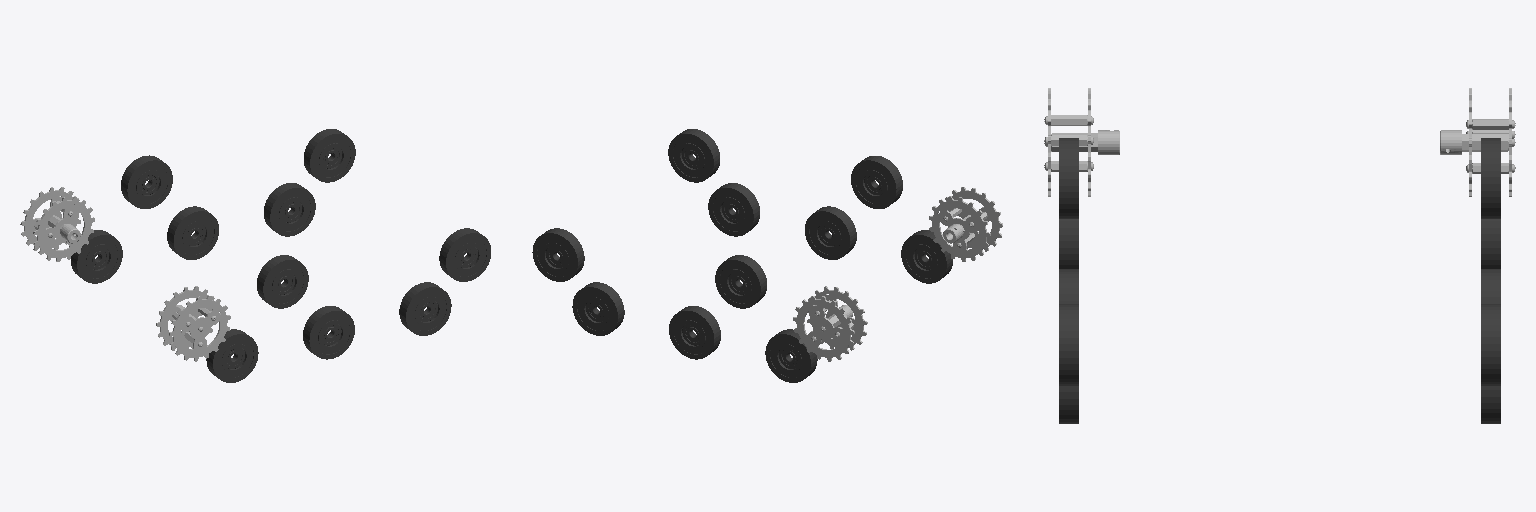
robot.urdf — model:
<?xml version="1.0" encoding="utf-8"?>
<!-- This URDF was automatically created by SolidWorks to URDF Exporter! Originally created by [author] ([email redacted]) 
     Commit Version: 1.5.1-0-g916b5db  Build Version: 1.5.7152.31018
     For more information, please see http://wiki.ros.org/sw_urdf_exporter -->
<robot
  name="model">
  <link
    name="chassis_link">
    <inertial>
      <origin
        xyz="-0.018795 2.4102E-05 0.072348"
        rpy="0 0 0" />
      <mass
        value="1.0402" />
      <inertia
        ixx="0.00083034"
        ixy="-1.5244E-08"
        ixz="8.1238E-06"
        iyy="0.002339"
        iyz="-1.2828E-09"
        izz="0.0029553" />
    </inertial>
    <visual>
      <origin
        xyz="0 0 0"
        rpy="0 0 0" />
      <geometry>
        <mesh
          filename="package://model/meshes/chassis_link.STL" />
      </geometry>
      <material
        name="">
        <color
          rgba="0.64706 0.61961 0.58824 1" />
      </material>
    </visual>
    <collision>
      <origin
        xyz="0 0 0"
        rpy="0 0 0" />
      <geometry>
        <mesh
          filename="package://model/meshes/chassis_link.STL" />
      </geometry>
    </collision>
  </link>
  <link
    name="R_BCD">
    <inertial>
      <origin
        xyz="-1.4807E-06 -3.1788E-05 -0.003944"
        rpy="0 0 0" />
      <mass
        value="0.036285" />
      <inertia
        ixx="3.9446E-06"
        ixy="-2.7291E-09"
        ixz="-5.1243E-09"
        iyy="3.9498E-06"
        iyz="-1.6836E-09"
        izz="4.4119E-06" />
    </inertial>
    <visual>
      <origin
        xyz="0 0 0"
        rpy="0 0 0" />
      <geometry>
        <mesh
          filename="package://model/meshes/R_BCD.STL" />
      </geometry>
      <material
        name="">
        <color
          rgba="0.75294 0.75294 0.75294 1" />
      </material>
    </visual>
    <collision>
      <origin
        xyz="0 0 0"
        rpy="0 0 0" />
      <geometry>
        <mesh
          filename="package://model/meshes/R_BCD.STL" />
      </geometry>
    </collision>
  </link>
  <joint
    name="R_BCD_joint"
    type="continuous">
    <origin
      xyz="-0.10835 0.103 0.05996"
      rpy="-1.5708 0 0" />
    <parent
      link="chassis_link" />
    <child
      link="R_BCD" />
    <axis
      xyz="0 0 1" />
    <limit
      effort="0"
      velocity="10" />
  </joint>
  <link
    name="L_BCD">
    <inertial>
      <origin
        xyz="2.54236738991415E-05 1.14950922851589E-06 0.00394401127068325"
        rpy="0 0 0" />
      <mass
        value="0.0362846245528496" />
      <inertia
        ixx="3.9490938448633E-06"
        ixy="-3.27065914702875E-09"
        ixz="-2.28527803096932E-09"
        iyy="3.94532902854185E-06"
        iyz="-4.88578587042565E-09"
        izz="4.41185875569394E-06" />
    </inertial>
    <visual>
      <origin
        xyz="0 0 0"
        rpy="0 0 0" />
      <geometry>
        <mesh
          filename="package://model/meshes/L_BCD.STL" />
      </geometry>
      <material
        name="">
        <color
          rgba="0.752941176470588 0.752941176470588 0.752941176470588 1" />
      </material>
    </visual>
    <collision>
      <origin
        xyz="0 0 0"
        rpy="0 0 0" />
      <geometry>
        <mesh
          filename="package://model/meshes/L_BCD.STL" />
      </geometry>
    </collision>
  </link>
  <joint
    name="L_BCD_joint"
    type="continuous">
    <origin
      xyz="-0.108362582516028 -0.102999999999996 0.0599822962593122"
      rpy="-1.57079632679489 0 0" />
    <parent
      link="chassis_link" />
    <child
      link="L_BCD" />
    <axis
      xyz="0 0 1" />
    <limit
      effort="0"
      velocity="10" />
  </joint>
  <link
    name="R_BBD1">
    <inertial>
      <origin
        xyz="7.28277847777958E-07 2.32009663224397E-07 3.51072001136821E-07"
        rpy="0 0 0" />
      <mass
        value="0.0181510227398189" />
      <inertia
        ixx="1.46983823144334E-06"
        ixy="-2.33658940819177E-11"
        ixz="-3.69944187591677E-11"
        iyy="1.4699043173567E-06"
        iyz="-1.1775439002061E-11"
        izz="2.73993560788191E-06" />
    </inertial>
    <visual>
      <origin
        xyz="0 0 0"
        rpy="0 0 0" />
      <geometry>
        <mesh
          filename="package://model/meshes/R_BBD1.STL" />
      </geometry>
      <material
        name="">
        <color
          rgba="0.298039215686275 0.298039215686275 0.298039215686275 1" />
      </material>
    </visual>
    <collision>
      <origin
        xyz="0 0 0"
        rpy="0 0 0" />
      <geometry>
        <mesh
          filename="package://model/meshes/R_BBD1.STL" />
      </geometry>
    </collision>
  </link>
  <joint
    name="R_BBD1_joint"
    type="continuous">
    <origin
      xyz="-0.0743310822413043 0.103000000000001 0.0249996971806272"
      rpy="-1.57079632679491 0 0" />
    <parent
      link="chassis_link" />
    <child
      link="R_BBD1" />
    <axis
      xyz="0 0 1" />
    <limit
      effort="0"
      velocity="10" />
  </joint>
  <link
    name="R_BBD2">
    <inertial>
      <origin
        xyz="-7.54832669185718E-07 1.20186309407293E-07 3.51072001122943E-07"
        rpy="0 0 0" />
      <mass
        value="0.0181510227398189" />
      <inertia
        ixx="1.4698328224365E-06"
        ixy="1.26193698012093E-11"
        ixz="3.8338838415935E-11"
        iyy="1.46990972636354E-06"
        iyz="-6.11403689223335E-12"
        izz="2.73993560788191E-06" />
    </inertial>
    <visual>
      <origin
        xyz="0 0 0"
        rpy="0 0 0" />
      <geometry>
        <mesh
          filename="package://model/meshes/R_BBD2.STL" />
      </geometry>
      <material
        name="">
        <color
          rgba="0.298039215686275 0.298039215686275 0.298039215686275 1" />
      </material>
    </visual>
    <collision>
      <origin
        xyz="0 0 0"
        rpy="0 0 0" />
      <geometry>
        <mesh
          filename="package://model/meshes/R_BBD2.STL" />
      </geometry>
    </collision>
  </link>
  <joint
    name="R_BBD2_joint"
    type="continuous">
    <origin
      xyz="-0.0303310822413043 0.103000000000001 0.0769996971806272"
      rpy="-1.57079632679491 0 0" />
    <parent
      link="chassis_link" />
    <child
      link="R_BBD2" />
    <axis
      xyz="0 0 1" />
    <limit
      effort="0"
      velocity="10" />
  </joint>
  <link
    name="R_BBD3">
    <inertial>
      <origin
        xyz="7.46785111856857E-07 1.62877574087783E-07 3.51072001178454E-07"
        rpy="0 0 0" />
      <mass
        value="0.0181510227398189" />
      <inertia
        ixx="1.4698344579235E-06"
        ixy="-1.68032451889584E-11"
        ixz="-3.79336006985298E-11"
        iyy="1.46990809087654E-06"
        iyz="-8.26377159529316E-12"
        izz="2.73993560788191E-06" />
    </inertial>
    <visual>
      <origin
        xyz="0 0 0"
        rpy="0 0 0" />
      <geometry>
        <mesh
          filename="package://model/meshes/R_BBD3.STL" />
      </geometry>
      <material
        name="">
        <color
          rgba="0.298039215686275 0.298039215686275 0.298039215686275 1" />
      </material>
    </visual>
    <collision>
      <origin
        xyz="0 0 0"
        rpy="0 0 0" />
      <geometry>
        <mesh
          filename="package://model/meshes/R_BBD3.STL" />
      </geometry>
    </collision>
  </link>
  <joint
    name="R_BBD3_joint"
    type="continuous">
    <origin
      xyz="0.010169 0.103 0.025"
      rpy="-1.5708 0 0" />
    <parent
      link="chassis_link" />
    <child
      link="R_BBD3" />
    <axis
      xyz="0 0 1" />
    <limit
      effort="0"
      velocity="10" />
  </joint>
  <link
    name="R_BBD4">
    <inertial>
      <origin
        xyz="6.54810600880795E-07 3.94259032136801E-07 3.51072001178454E-07"
        rpy="0 0 0" />
      <mass
        value="0.0181510227398189" />
      <inertia
        ixx="1.46985229281595E-06"
        ixy="-3.57421524048419E-11"
        ixz="-3.32648047027426E-11"
        iyy="1.46989025598409E-06"
        iyz="-2.00175110531134E-11"
        izz="2.73993560788191E-06" />
    </inertial>
    <visual>
      <origin
        xyz="0 0 0"
        rpy="0 0 0" />
      <geometry>
        <mesh
          filename="package://model/meshes/R_BBD4.STL" />
      </geometry>
      <material
        name="">
        <color
          rgba="0.298039215686275 0.298039215686275 0.298039215686275 1" />
      </material>
    </visual>
    <collision>
      <origin
        xyz="0 0 0"
        rpy="0 0 0" />
      <geometry>
        <mesh
          filename="package://model/meshes/R_BBD4.STL" />
      </geometry>
    </collision>
  </link>
  <joint
    name="R_BBD4_joint"
    type="continuous">
    <origin
      xyz="0.0946689177586958 0.103000000000001 0.0249996971806272"
      rpy="-1.5707963267949 0 0" />
    <parent
      link="chassis_link" />
    <child
      link="R_BBD4" />
    <axis
      xyz="0 0 1" />
    <limit
      effort="0"
      velocity="10" />
  </joint>
  <link
    name="R_BBD5">
    <inertial>
      <origin
        xyz="7.51477552213276E-07 1.39637373060275E-07 3.51072001136821E-07"
        rpy="0 0 0" />
      <mass
        value="0.0181510227398189" />
      <inertia
        ixx="1.46983348693769E-06"
        ixy="-1.44882601873531E-11"
        ixz="-3.81716552756468E-11"
        iyy="1.46990906186235E-06"
        iyz="-7.08327000155154E-12"
        izz="2.73993560788191E-06" />
    </inertial>
    <visual>
      <origin
        xyz="0 0 0"
        rpy="0 0 0" />
      <geometry>
        <mesh
          filename="package://model/meshes/R_BBD5.STL" />
      </geometry>
      <material
        name="">
        <color
          rgba="0.298039215686275 0.298039215686275 0.298039215686275 1" />
      </material>
    </visual>
    <collision>
      <origin
        xyz="0 0 0"
        rpy="0 0 0" />
      <geometry>
        <mesh
          filename="package://model/meshes/R_BBD5.STL" />
      </geometry>
    </collision>
  </link>
  <joint
    name="R_BBD5_joint"
    type="continuous">
    <origin
      xyz="0.12967 0.103 0.062"
      rpy="-1.5708 0 0" />
    <parent
      link="chassis_link" />
    <child
      link="R_BBD5" />
    <axis
      xyz="0 0 1" />
    <limit
      effort="0"
      velocity="10" />
  </joint>
  <link
    name="L_BBD1">
    <inertial>
      <origin
        xyz="-1.71752597255548E-07 -7.447940337732E-07 -3.51072001164576E-07"
        rpy="0 0 0" />
      <mass
        value="0.0181510227398189" />
      <inertia
        ixx="1.46990768056932E-06"
        ixy="-1.76746380202336E-11"
        ixz="-8.7145868030865E-12"
        iyy="1.46983486823072E-06"
        iyz="-3.78325779782942E-11"
        izz="2.73993560788191E-06" />
    </inertial>
    <visual>
      <origin
        xyz="0 0 0"
        rpy="0 0 0" />
      <geometry>
        <mesh
          filename="package://model/meshes/L_BBD1.STL" />
      </geometry>
      <material
        name="">
        <color
          rgba="0.298039215686275 0.298039215686275 0.298039215686275 1" />
      </material>
    </visual>
    <collision>
      <origin
        xyz="0 0 0"
        rpy="0 0 0" />
      <geometry>
        <mesh
          filename="package://model/meshes/L_BBD1.STL" />
      </geometry>
    </collision>
  </link>
  <joint
    name="L_BBD1_joint"
    type="continuous">
    <origin
      xyz="-0.074331 -0.103 0.025"
      rpy="-1.5708 0 0" />
    <parent
      link="chassis_link" />
    <child
      link="L_BBD1" />
    <axis
      xyz="0 0 1" />
    <limit
      effort="0"
      velocity="10" />
  </joint>
  <link
    name="L_BBD2">
    <inertial>
      <origin
        xyz="-7.62091937389631E-07 5.85916922132834E-08 -3.51072001150698E-07"
        rpy="0 0 0" />
      <mass
        value="0.0181510227398189" />
      <inertia
        ixx="1.46983127214448E-06"
        ixy="6.13364037635629E-12"
        ixz="-3.87097846999645E-11"
        iyy="1.46991127665556E-06"
        iyz="2.96657189858838E-12"
        izz="2.73993560788191E-06" />
    </inertial>
    <visual>
      <origin
        xyz="0 0 0"
        rpy="0 0 0" />
      <geometry>
        <mesh
          filename="package://model/meshes/L_BBD2.STL" />
      </geometry>
      <material
        name="">
        <color
          rgba="0.298039215686275 0.298039215686275 0.298039215686275 1" />
      </material>
    </visual>
    <collision>
      <origin
        xyz="0 0 0"
        rpy="0 0 0" />
      <geometry>
        <mesh
          filename="package://model/meshes/L_BBD2.STL" />
      </geometry>
    </collision>
  </link>
  <joint
    name="L_BBD2_joint"
    type="continuous">
    <origin
      xyz="-0.030331 -0.103 0.077"
      rpy="-1.5708 0 0" />
    <parent
      link="chassis_link" />
    <child
      link="L_BBD2" />
    <axis
      xyz="0 0 1" />
    <limit
      effort="0"
      velocity="10" />
  </joint>
  <link
    name="L_BBD3">
    <inertial>
      <origin
        xyz="-5.14908693495519E-08 -7.62604614304441E-07 -3.51072001247843E-07"
        rpy="0 0 0" />
      <mass
        value="0.0181510227398189" />
      <inertia
        ixx="1.46991138396984E-06"
        ixy="-5.38742996710733E-12"
        ixz="-2.60589229846249E-12"
        iyy="1.4698311648302E-06"
        iyz="-3.87357367934029E-11"
        izz="2.73993560788191E-06" />
    </inertial>
    <visual>
      <origin
        xyz="0 0 0"
        rpy="0 0 0" />
      <geometry>
        <mesh
          filename="package://model/meshes/L_BBD3.STL" />
      </geometry>
      <material
        name="">
        <color
          rgba="0.298039215686275 0.298039215686275 0.298039215686275 1" />
      </material>
    </visual>
    <collision>
      <origin
        xyz="0 0 0"
        rpy="0 0 0" />
      <geometry>
        <mesh
          filename="package://model/meshes/L_BBD3.STL" />
      </geometry>
    </collision>
  </link>
  <joint
    name="L_BBD3_joint"
    type="continuous">
    <origin
      xyz="0.010169 -0.103 0.025"
      rpy="-1.5708 0 0" />
    <parent
      link="chassis_link" />
    <child
      link="L_BBD3" />
    <axis
      xyz="0 0 1" />
    <limit
      effort="0"
      velocity="10" />
  </joint>
  <link
    name="L_BBD4">
    <inertial>
      <origin
        xyz="4.60323504314353E-08 -7.62953556970869E-07 -3.51072001136821E-07"
        rpy="0 0 0" />
      <mass
        value="0.0181510227398189" />
      <inertia
        ixx="1.46991144415693E-06"
        ixy="4.91859962973128E-12"
        ixz="2.34762426130386E-12"
        iyy="1.46983110464311E-06"
        iyz="-3.87522469017893E-11"
        izz="2.73993560788191E-06" />
    </inertial>
    <visual>
      <origin
        xyz="0 0 0"
        rpy="0 0 0" />
      <geometry>
        <mesh
          filename="package://model/meshes/L_BBD4.STL" />
      </geometry>
      <material
        name="">
        <color
          rgba="0.298039215686275 0.298039215686275 0.298039215686275 1" />
      </material>
    </visual>
    <collision>
      <origin
        xyz="0 0 0"
        rpy="0 0 0" />
      <geometry>
        <mesh
          filename="package://model/meshes/L_BBD4.STL" />
      </geometry>
    </collision>
  </link>
  <joint
    name="L_BBD4_joint"
    type="continuous">
    <origin
      xyz="0.094669 -0.103 0.025"
      rpy="-1.5708 0 0" />
    <parent
      link="chassis_link" />
    <child
      link="L_BBD4" />
    <axis
      xyz="0 0 1" />
    <limit
      effort="0"
      velocity="10" />
  </joint>
  <link
    name="L_BBD5">
    <inertial>
      <origin
        xyz="1.1695E-07 -7.5534E-07 -3.5107E-07"
        rpy="0 0 0" />
      <mass
        value="0.018151" />
      <inertia
        ixx="1.4699E-06"
        ixy="1.2289E-11"
        ixz="5.9496E-12"
        iyy="1.4698E-06"
        iyz="-3.8365E-11"
        izz="2.7399E-06" />
    </inertial>
    <visual>
      <origin
        xyz="0 0 0"
        rpy="0 0 0" />
      <geometry>
        <mesh
          filename="package://model/meshes/L_BBD5.STL" />
      </geometry>
      <material
        name="">
        <color
          rgba="0.29804 0.29804 0.29804 1" />
      </material>
    </visual>
    <collision>
      <origin
        xyz="0 0 0"
        rpy="0 0 0" />
      <geometry>
        <mesh
          filename="package://model/meshes/L_BBD5.STL" />
      </geometry>
    </collision>
  </link>
  <joint
    name="L_BBD5_joint"
    type="continuous">
    <origin
      xyz="0.12967 -0.103 0.062"
      rpy="-1.5708 0 0" />
    <parent
      link="chassis_link" />
    <child
      link="L_BBD5" />
    <axis
      xyz="0 0 1" />
    <limit
      effort="0"
      velocity="10" />
  </joint>
  <link
    name="lidar">
    <inertial>
      <origin
        xyz="0 0 0"
        rpy="0 0 0" />
      <mass
        value="0.17" />
      <inertia
        ixx="0"
        ixy="0"
        ixz="0"
        iyy="0"
        iyz="0"
        izz="0" />
    </inertial>
    <visual>
      <origin
        xyz="0 0 0"
        rpy="0 0 0" />
      <geometry>
        <mesh
          filename="package://model/meshes/lidar.STL" />
      </geometry>
      <material
        name="">
        <color
          rgba="1 1 1 1" />
      </material>
    </visual>
    <collision>
      <origin
        xyz="0 0 0"
        rpy="0 0 0" />
      <geometry>
        <mesh
          filename="package://model/meshes/lidar.STL" />
      </geometry>
    </collision>
  </link>
  <joint
    name="lidar_joint"
    type="fixed">
    <origin
      xyz="0.00060691 0.00054999 0.2025"
      rpy="0 0 0" />
    <parent
      link="chassis_link" />
    <child
      link="lidar" />
    <axis
      xyz="0 0 0" />
  </joint>
</robot>

--- Render facts (derived) ---
3 views of the same robot in one strip: view 1: azimuth 30°, elevation 25°; view 2: azimuth 150°, elevation 25°; view 3: azimuth 270°, elevation 25° (orthographic).
Robot: model — 14 links, 13 joints (12 continuous, 1 fixed); root link chassis_link; default pose: all joints at 0.
Links seen in each view (by area): view 1: L_BCD, R_BCD, L_BBD4, L_BBD2, R_BBD3, R_BBD5, L_BBD5, R_BBD2, L_BBD3, R_BBD4, R_BBD1, L_BBD1; view 2: R_BCD, L_BCD, R_BBD4, R_BBD2, R_BBD5, L_BBD2, L_BBD5, R_BBD3, L_BBD3, L_BBD4, L_BBD1, R_BBD1; view 3: R_BCD, L_BCD, R_BBD5, L_BBD5, R_BBD2, L_BBD2, R_BBD1, L_BBD1, R_BBD4, L_BBD4, R_BBD3, L_BBD3.
Boxes of the visible links, <box> form: L_BCD: <box>156,286,230,361</box>; R_BCD: <box>20,187,94,261</box>; L_BBD4: <box>399,282,451,335</box>; L_BBD2: <box>257,255,308,308</box>; R_BBD3: <box>167,206,218,259</box>; R_BBD5: <box>304,129,355,182</box>; L_BBD5: <box>439,228,490,281</box>; R_BBD2: <box>121,155,172,208</box>; L_BBD3: <box>303,306,354,359</box>; R_BBD4: <box>264,183,315,236</box>; R_BBD1: <box>71,230,122,283</box>; L_BBD1: <box>206,329,258,382</box>; R_BCD: <box>793,286,867,361</box>; L_BCD: <box>929,187,1002,261</box>; R_BBD4: <box>572,282,624,335</box>; R_BBD2: <box>715,255,766,308</box>; R_BBD5: <box>532,228,584,281</box>; L_BBD2: <box>851,156,902,208</box>; L_BBD5: <box>668,129,719,182</box>; R_BBD3: <box>669,306,720,359</box>; L_BBD3: <box>805,206,856,259</box>; L_BBD4: <box>708,183,759,236</box>; L_BBD1: <box>901,230,952,283</box>; R_BBD1: <box>765,329,817,382</box>; R_BCD: <box>1440,88,1515,196</box>; L_BCD: <box>1044,88,1119,196</box>; R_BBD5: <box>1481,304,1500,385</box>; L_BBD5: <box>1059,304,1078,385</box>; R_BBD2: <box>1481,138,1500,218</box>; L_BBD2: <box>1059,138,1078,218</box>; R_BBD1: <box>1481,219,1500,268</box>; L_BBD1: <box>1059,219,1078,268</box>; R_BBD4: <box>1481,386,1500,423</box>; L_BBD4: <box>1059,386,1078,423</box>; R_BBD3: <box>1481,269,1500,303</box>; L_BBD3: <box>1059,269,1078,303</box>.
Size in the robot's own frame: 0.2847 by 0.2301 by 0.092 metres.
Meshes: 14 distinct files referenced, 12 mesh visuals loaded (12 binary STL); not drawn: 2 (reference not matched to a file when rendering).